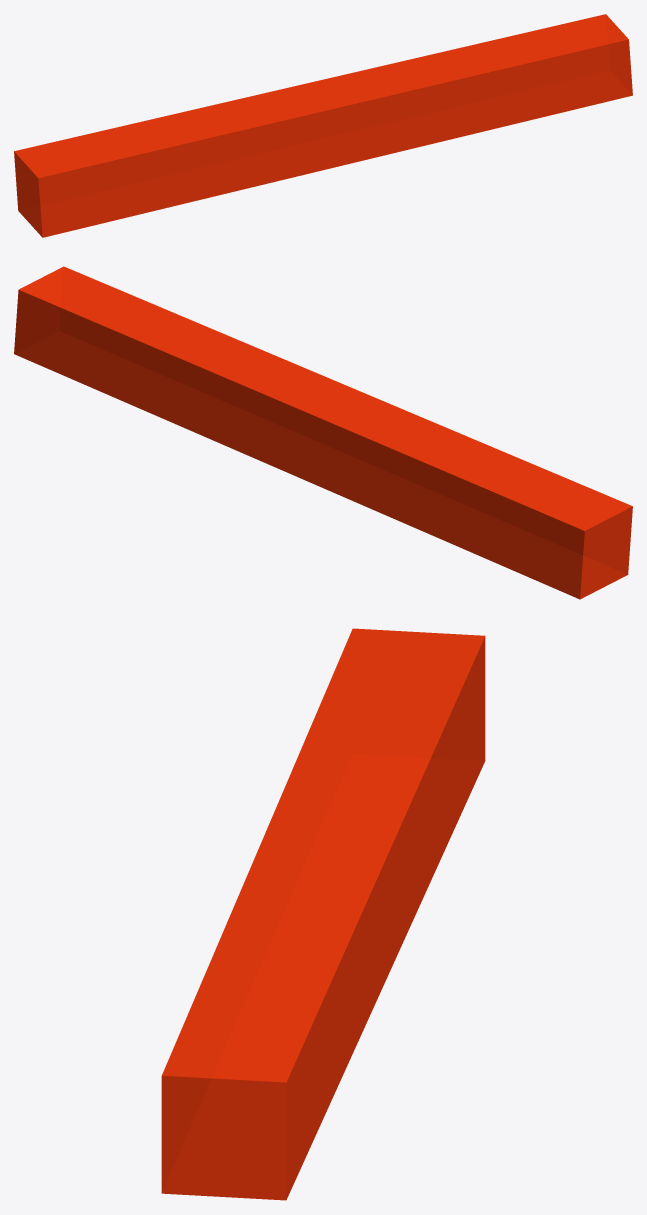
The model's file is Event_421364160_EErechit_25.fbx.
3 renders of one model, top to bottom at view 1: azimuth 30°, elevation 25°; view 2: azimuth 150°, elevation 25°; view 3: azimuth 270°, elevation 25°, orthographic. The views are drawn at different scales.
Parts seen in each view (by area): view 1: Model; view 2: Model; view 3: Model.
Boxes of the visible parts, bbox=[...] form: Model: bbox=[14, 14, 632, 237]; Model: bbox=[14, 266, 632, 599]; Model: bbox=[161, 628, 485, 1200].
Size of the model in its own units: 0.7369 by 0.1301 by 0.1861.
